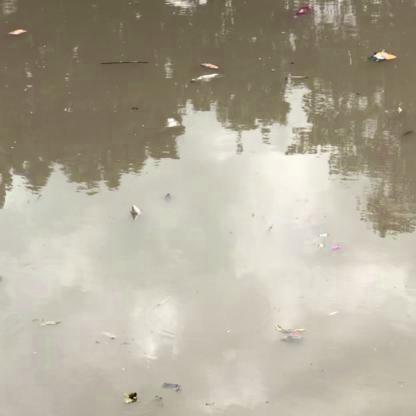Plastic: (184, 58, 224, 86)
Trash: (370, 48, 395, 68), (8, 26, 24, 42)
